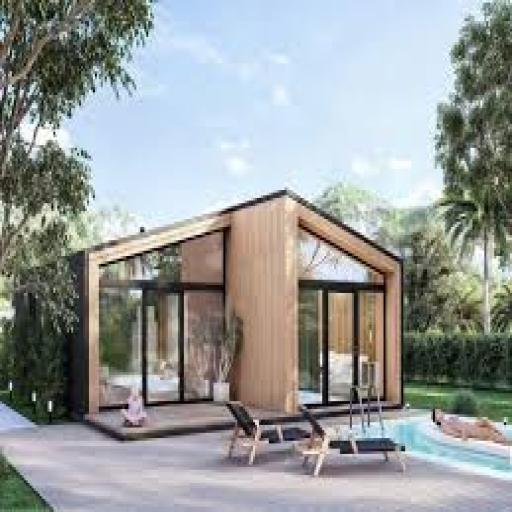casa: (51, 136, 412, 446)
